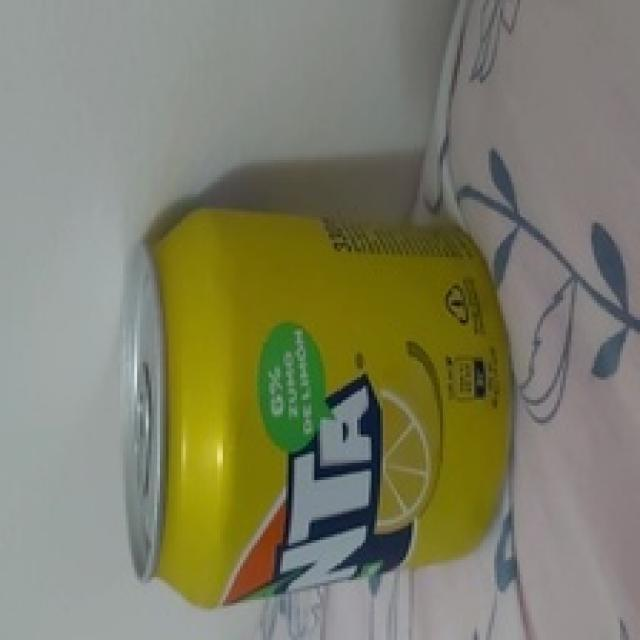recyclable: (125, 204, 518, 606)
